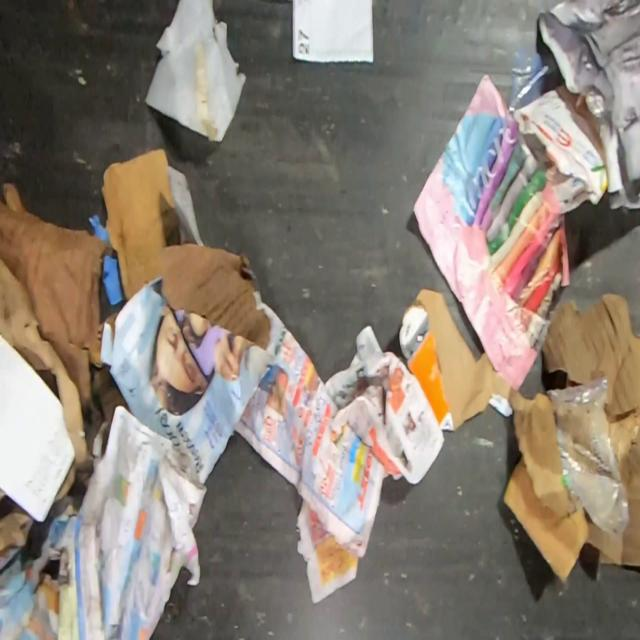cardboard: (502, 292, 640, 582), (0, 182, 116, 413), (0, 259, 93, 501), (398, 287, 514, 432), (162, 243, 281, 355), (100, 145, 180, 300)
soft_plastic: (510, 49, 548, 112)
